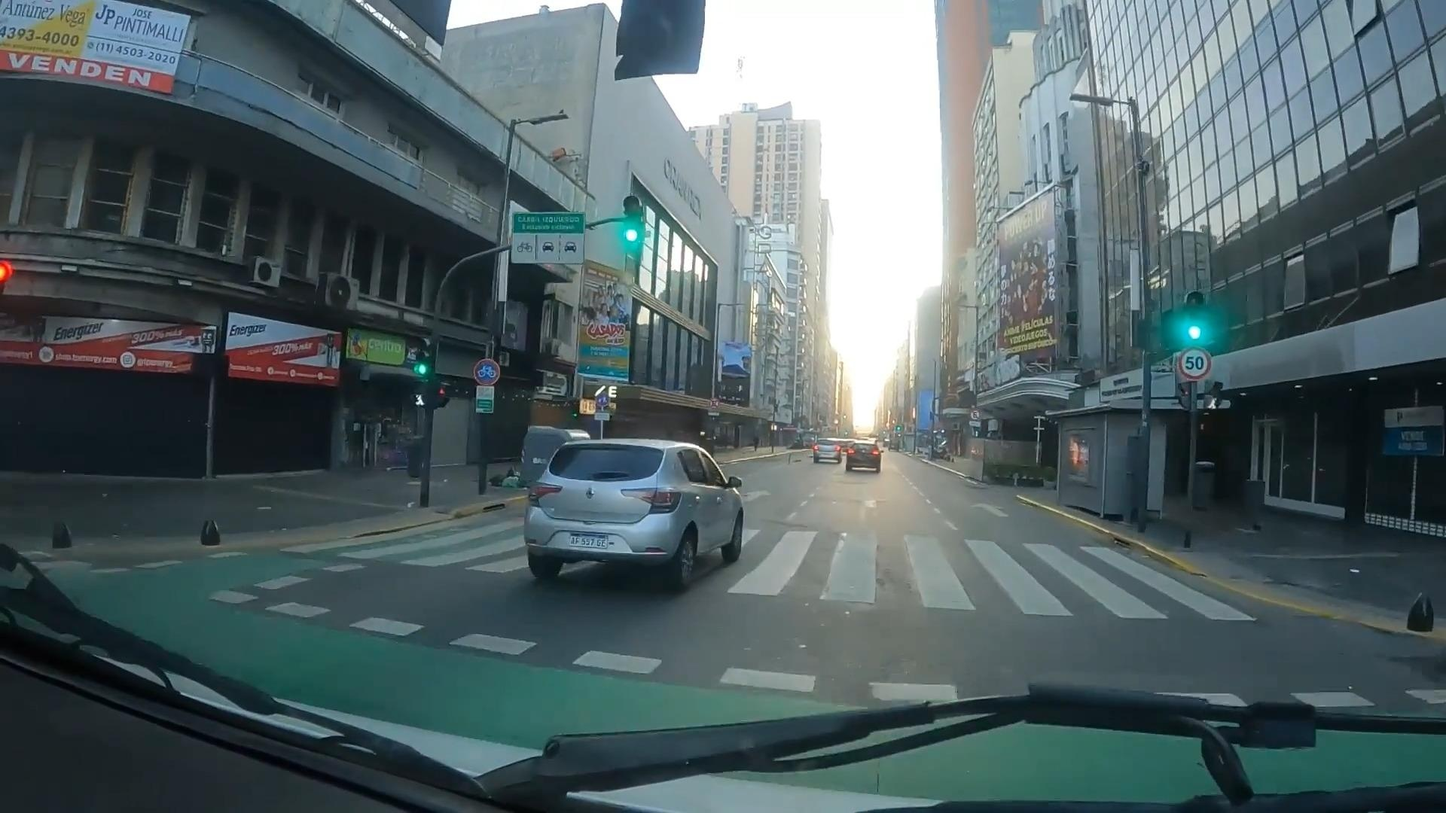dry: (8, 441, 1444, 715)
